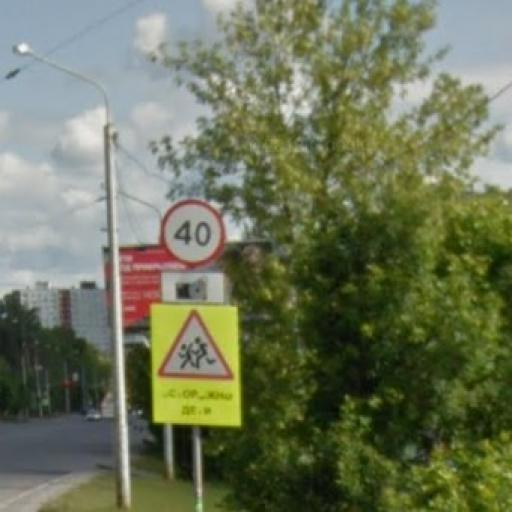traffic_sign: (158, 309, 236, 384), (159, 198, 227, 269)
